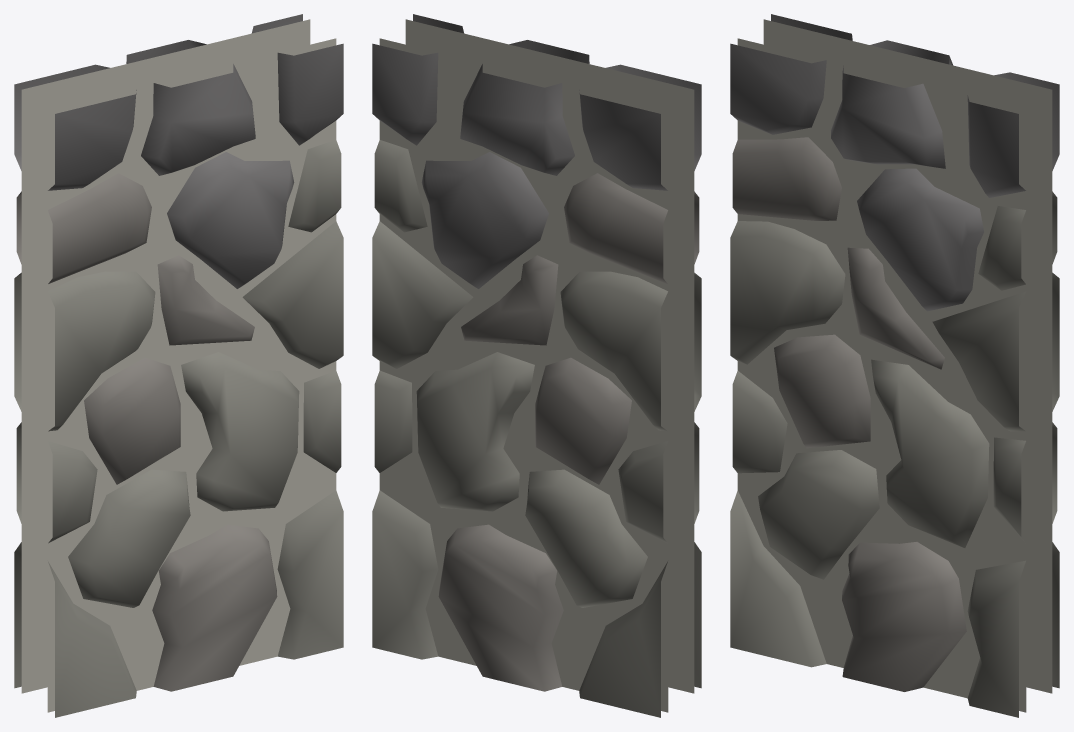
Rendered from rpgpp_ag_wall_04_1.5x3_a.fbx.
3 views of the same model, side by side, from view 1: azimuth 30°, elevation 25°; view 2: azimuth 150°, elevation 25°; view 3: azimuth 330°, elevation 25° (orthographic).
Parts seen in each view (by area): view 1: rpgpp_ag_wall_04_1.5x3_a; view 2: rpgpp_ag_wall_04_1.5x3_a; view 3: rpgpp_ag_wall_04_1.5x3_a.
Part boxes in pixels (x1,y1,x2,y2): rpgpp_ag_wall_04_1.5x3_a: [14, 14, 343, 717]; rpgpp_ag_wall_04_1.5x3_a: [372, 14, 701, 717]; rpgpp_ag_wall_04_1.5x3_a: [730, 14, 1059, 717].
Bounding box in the file's own units: 1.5 × 3 × 0.404.
